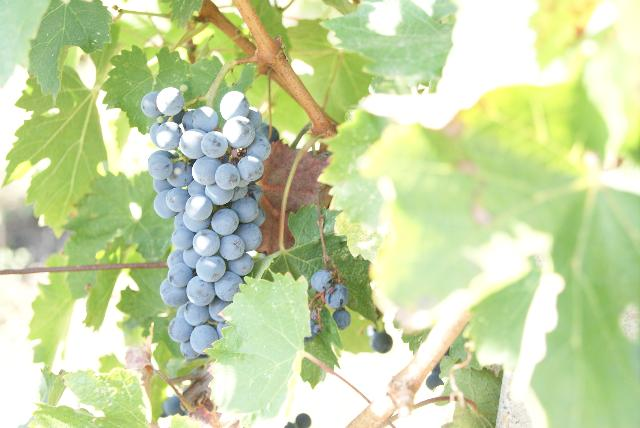grapes: (141, 88, 271, 359)
